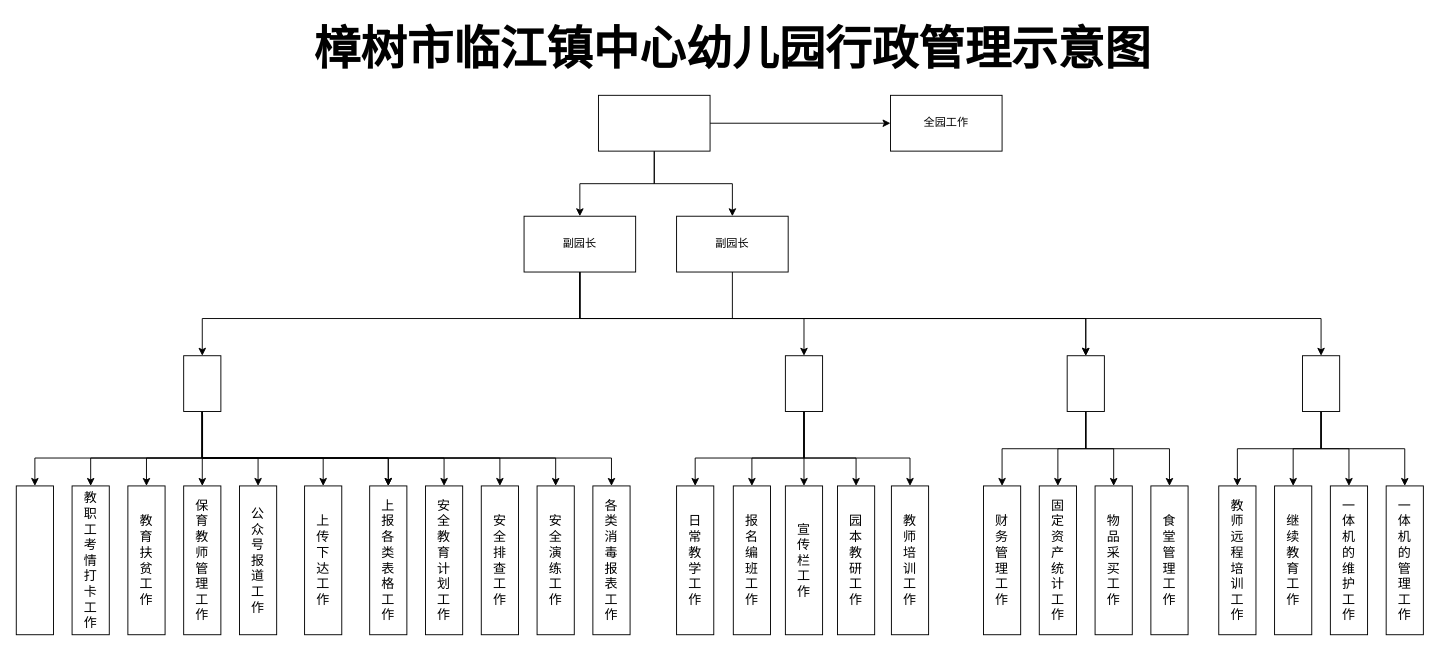
Image size: 1440x651. Some labels were removed from this diagram. The shapes that lost their labels are listed below. From the top down, each one's centre as x and y in pixels, then its label:
pixel 654 122: 园长
pixel 202 383: 办 公 室
pixel 803 383: 保 教 处
pixel 1085 383: 总 务 处
pixel 1321 383: 电 教 处
pixel 34 560: 上 级 文 件 收 发 工 作
